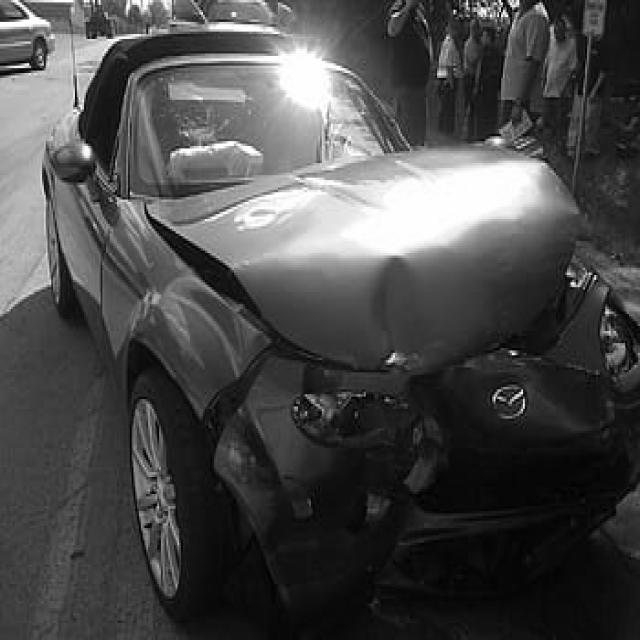crush: (133, 142, 640, 625)
